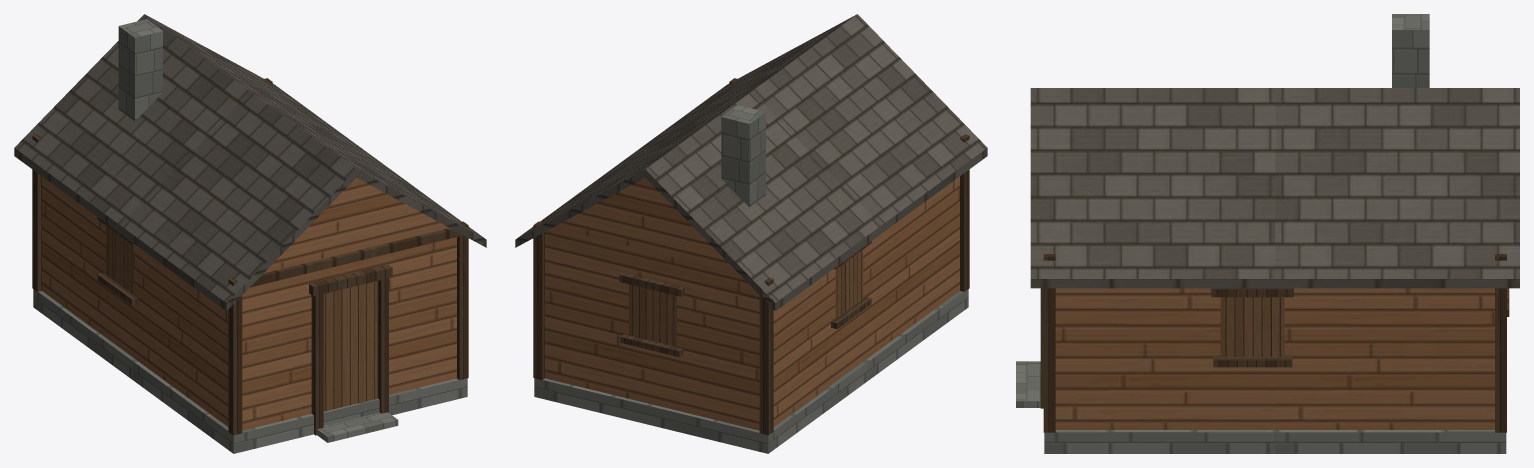
Rendered from ae_sand_wood_medium_block_lod0.glb.
The picture shows the model from 3 angles, left to right: view 1: azimuth 30°, elevation 25°; view 2: azimuth 150°, elevation 25°; view 3: azimuth 270°, elevation 25°; orthographic projection. The views are drawn at different scales.
Visible parts, largest first — view 1: ae_sand_wood_medium_block_lod0; view 2: ae_sand_wood_medium_block_lod0; view 3: ae_sand_wood_medium_block_lod0.
Part boxes in pixels (x1,y1,x2,y2): ae_sand_wood_medium_block_lod0: [14, 14, 486, 453]; ae_sand_wood_medium_block_lod0: [515, 14, 987, 453]; ae_sand_wood_medium_block_lod0: [1016, 14, 1519, 453].
Bounding box in the file's own units: 4.6 × 4.95 × 6.69.
1 material, 1 textured.
